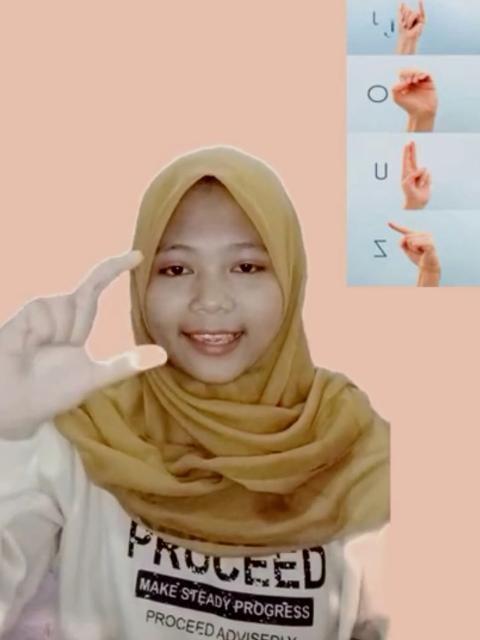G: (0, 248, 170, 430)
